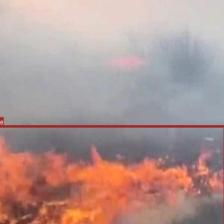fire: (0, 124, 224, 224)
